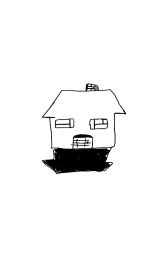chimney: (83, 80, 102, 95)
closed_window: (88, 117, 110, 132), (53, 117, 77, 130)
door: (70, 132, 95, 153)
shadow: (39, 144, 116, 177)
single_line_roof: (39, 89, 128, 120)
small_house: (1, 1, 161, 260)
wall: (46, 114, 118, 152)
